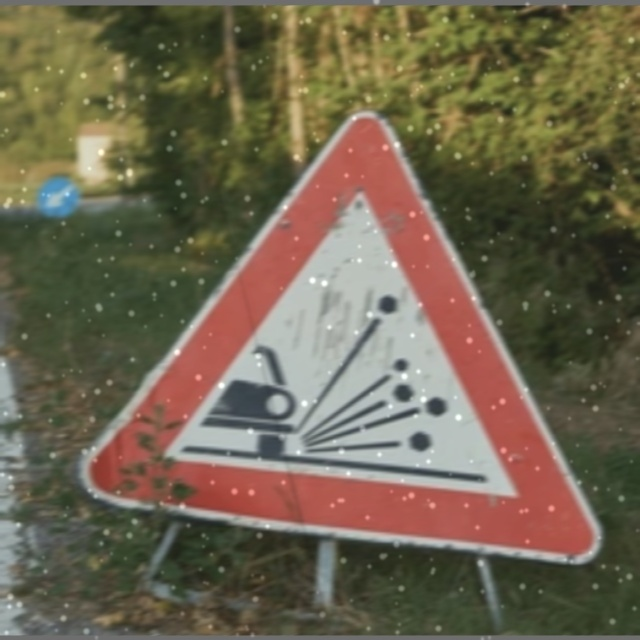Loose_Gravel: (101, 117, 567, 540)
